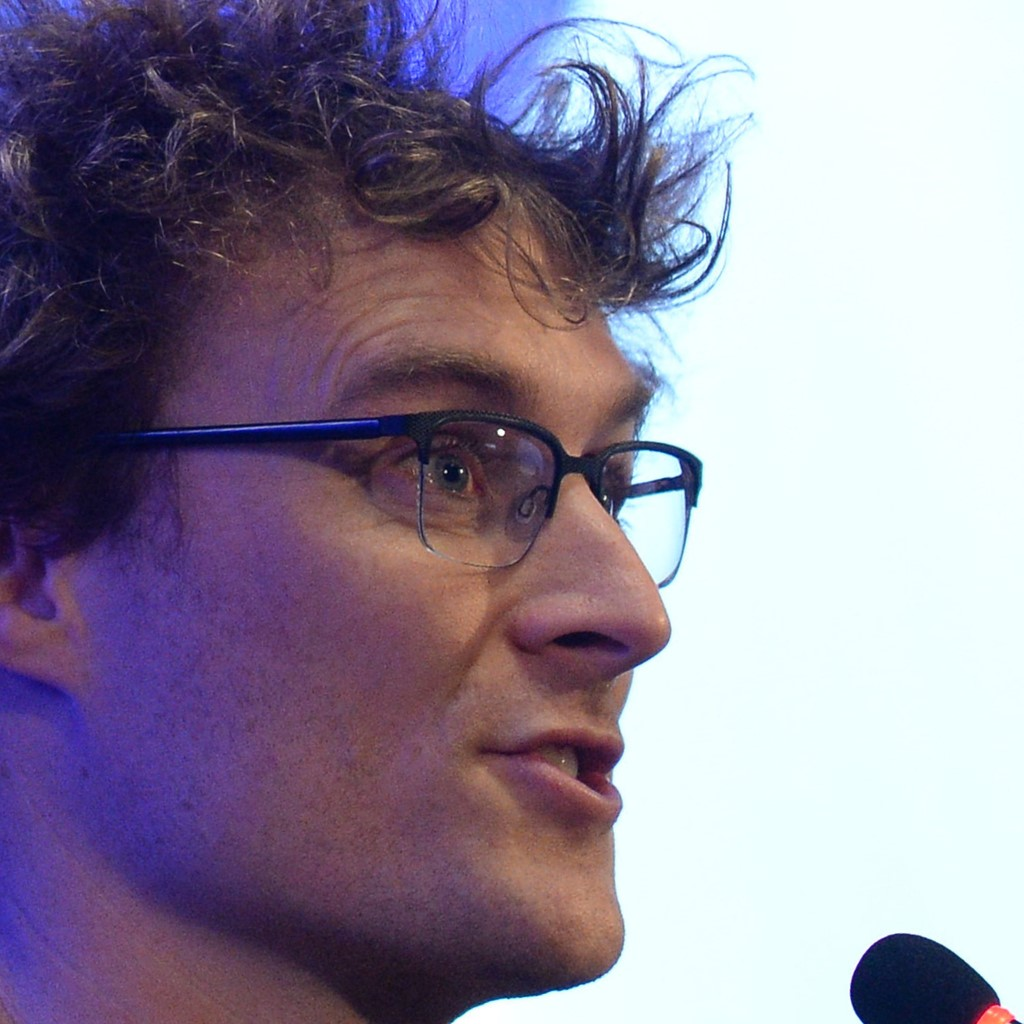sin_mascara: (58, 75, 634, 995)
